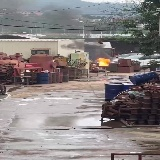fire: (97, 58, 110, 66)
